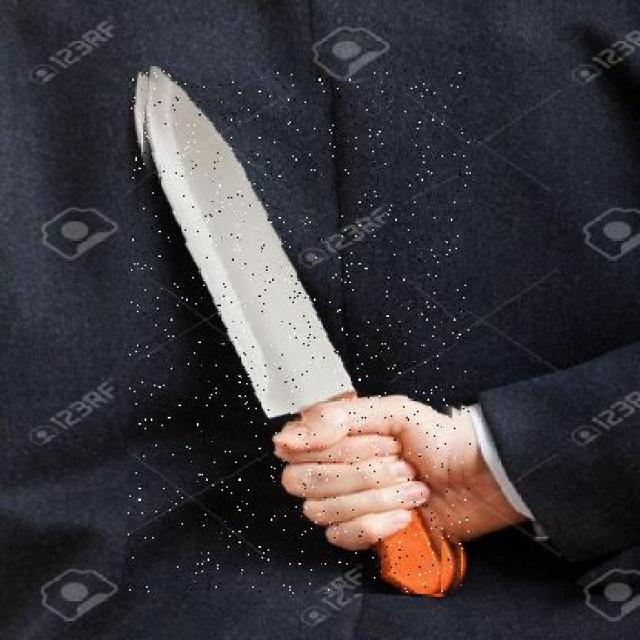knife: (128, 69, 470, 594)
